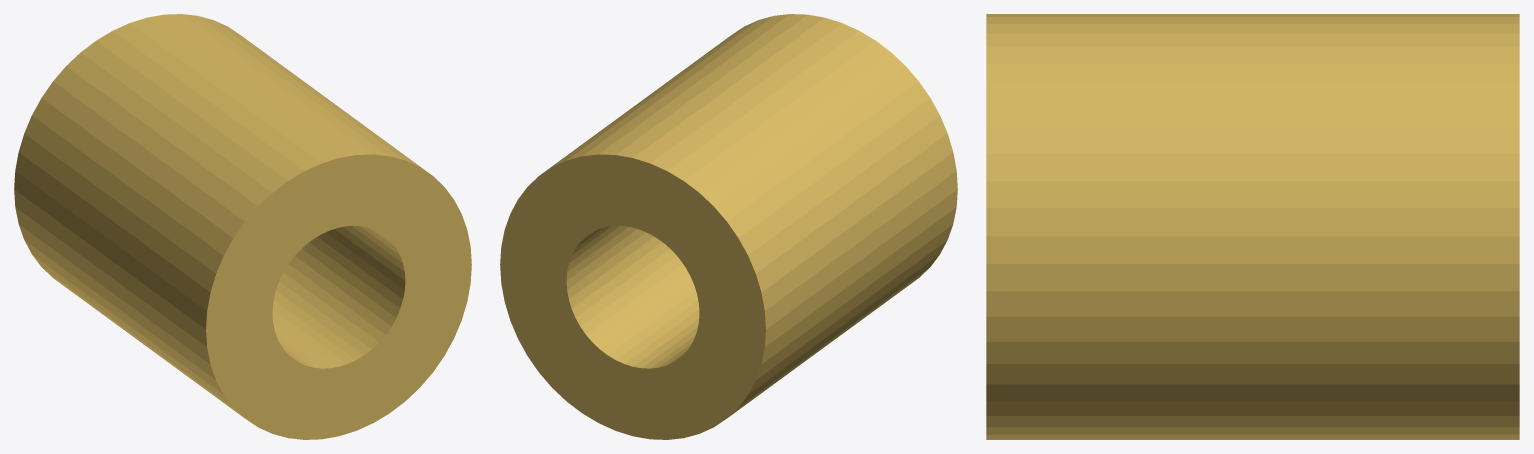
The model's file is insert-3.glb.
3 renders of one model, left to right at view 1: azimuth 30°, elevation 25°; view 2: azimuth 150°, elevation 25°; view 3: azimuth 270°, elevation 25°, orthographic. The views are drawn at different scales.
Visible parts, largest first — view 1: insert-3; view 2: insert-3; view 3: insert-3.
Part boxes in pixels (left/top/right/bottom): insert-3: left=14, top=14, right=471, bottom=439; insert-3: left=500, top=14, right=957, bottom=439; insert-3: left=986, top=14, right=1519, bottom=439.
Bounding box in the file's own units: 3.2 × 3.2 × 4.
